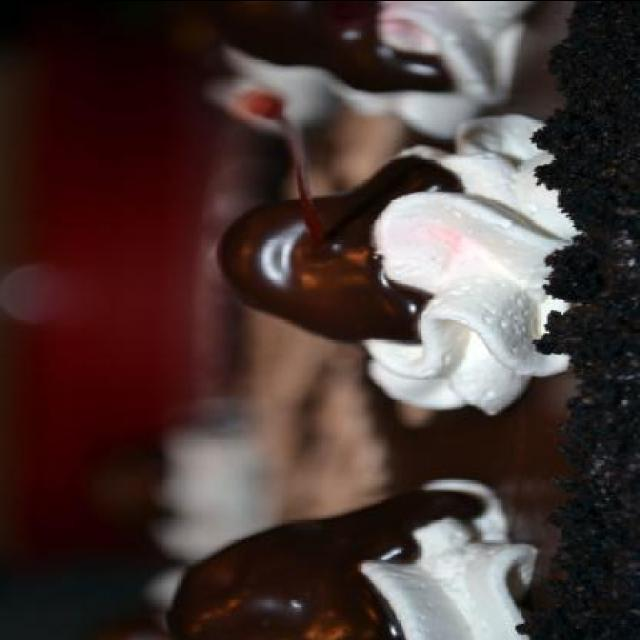Ice cream: (220, 103, 638, 446), (157, 472, 541, 640), (198, 0, 540, 136)
